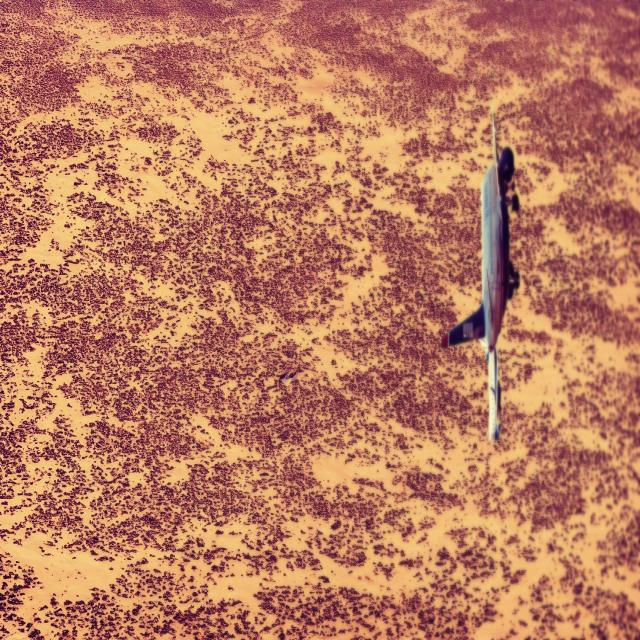airplane: (441, 104, 520, 443)
